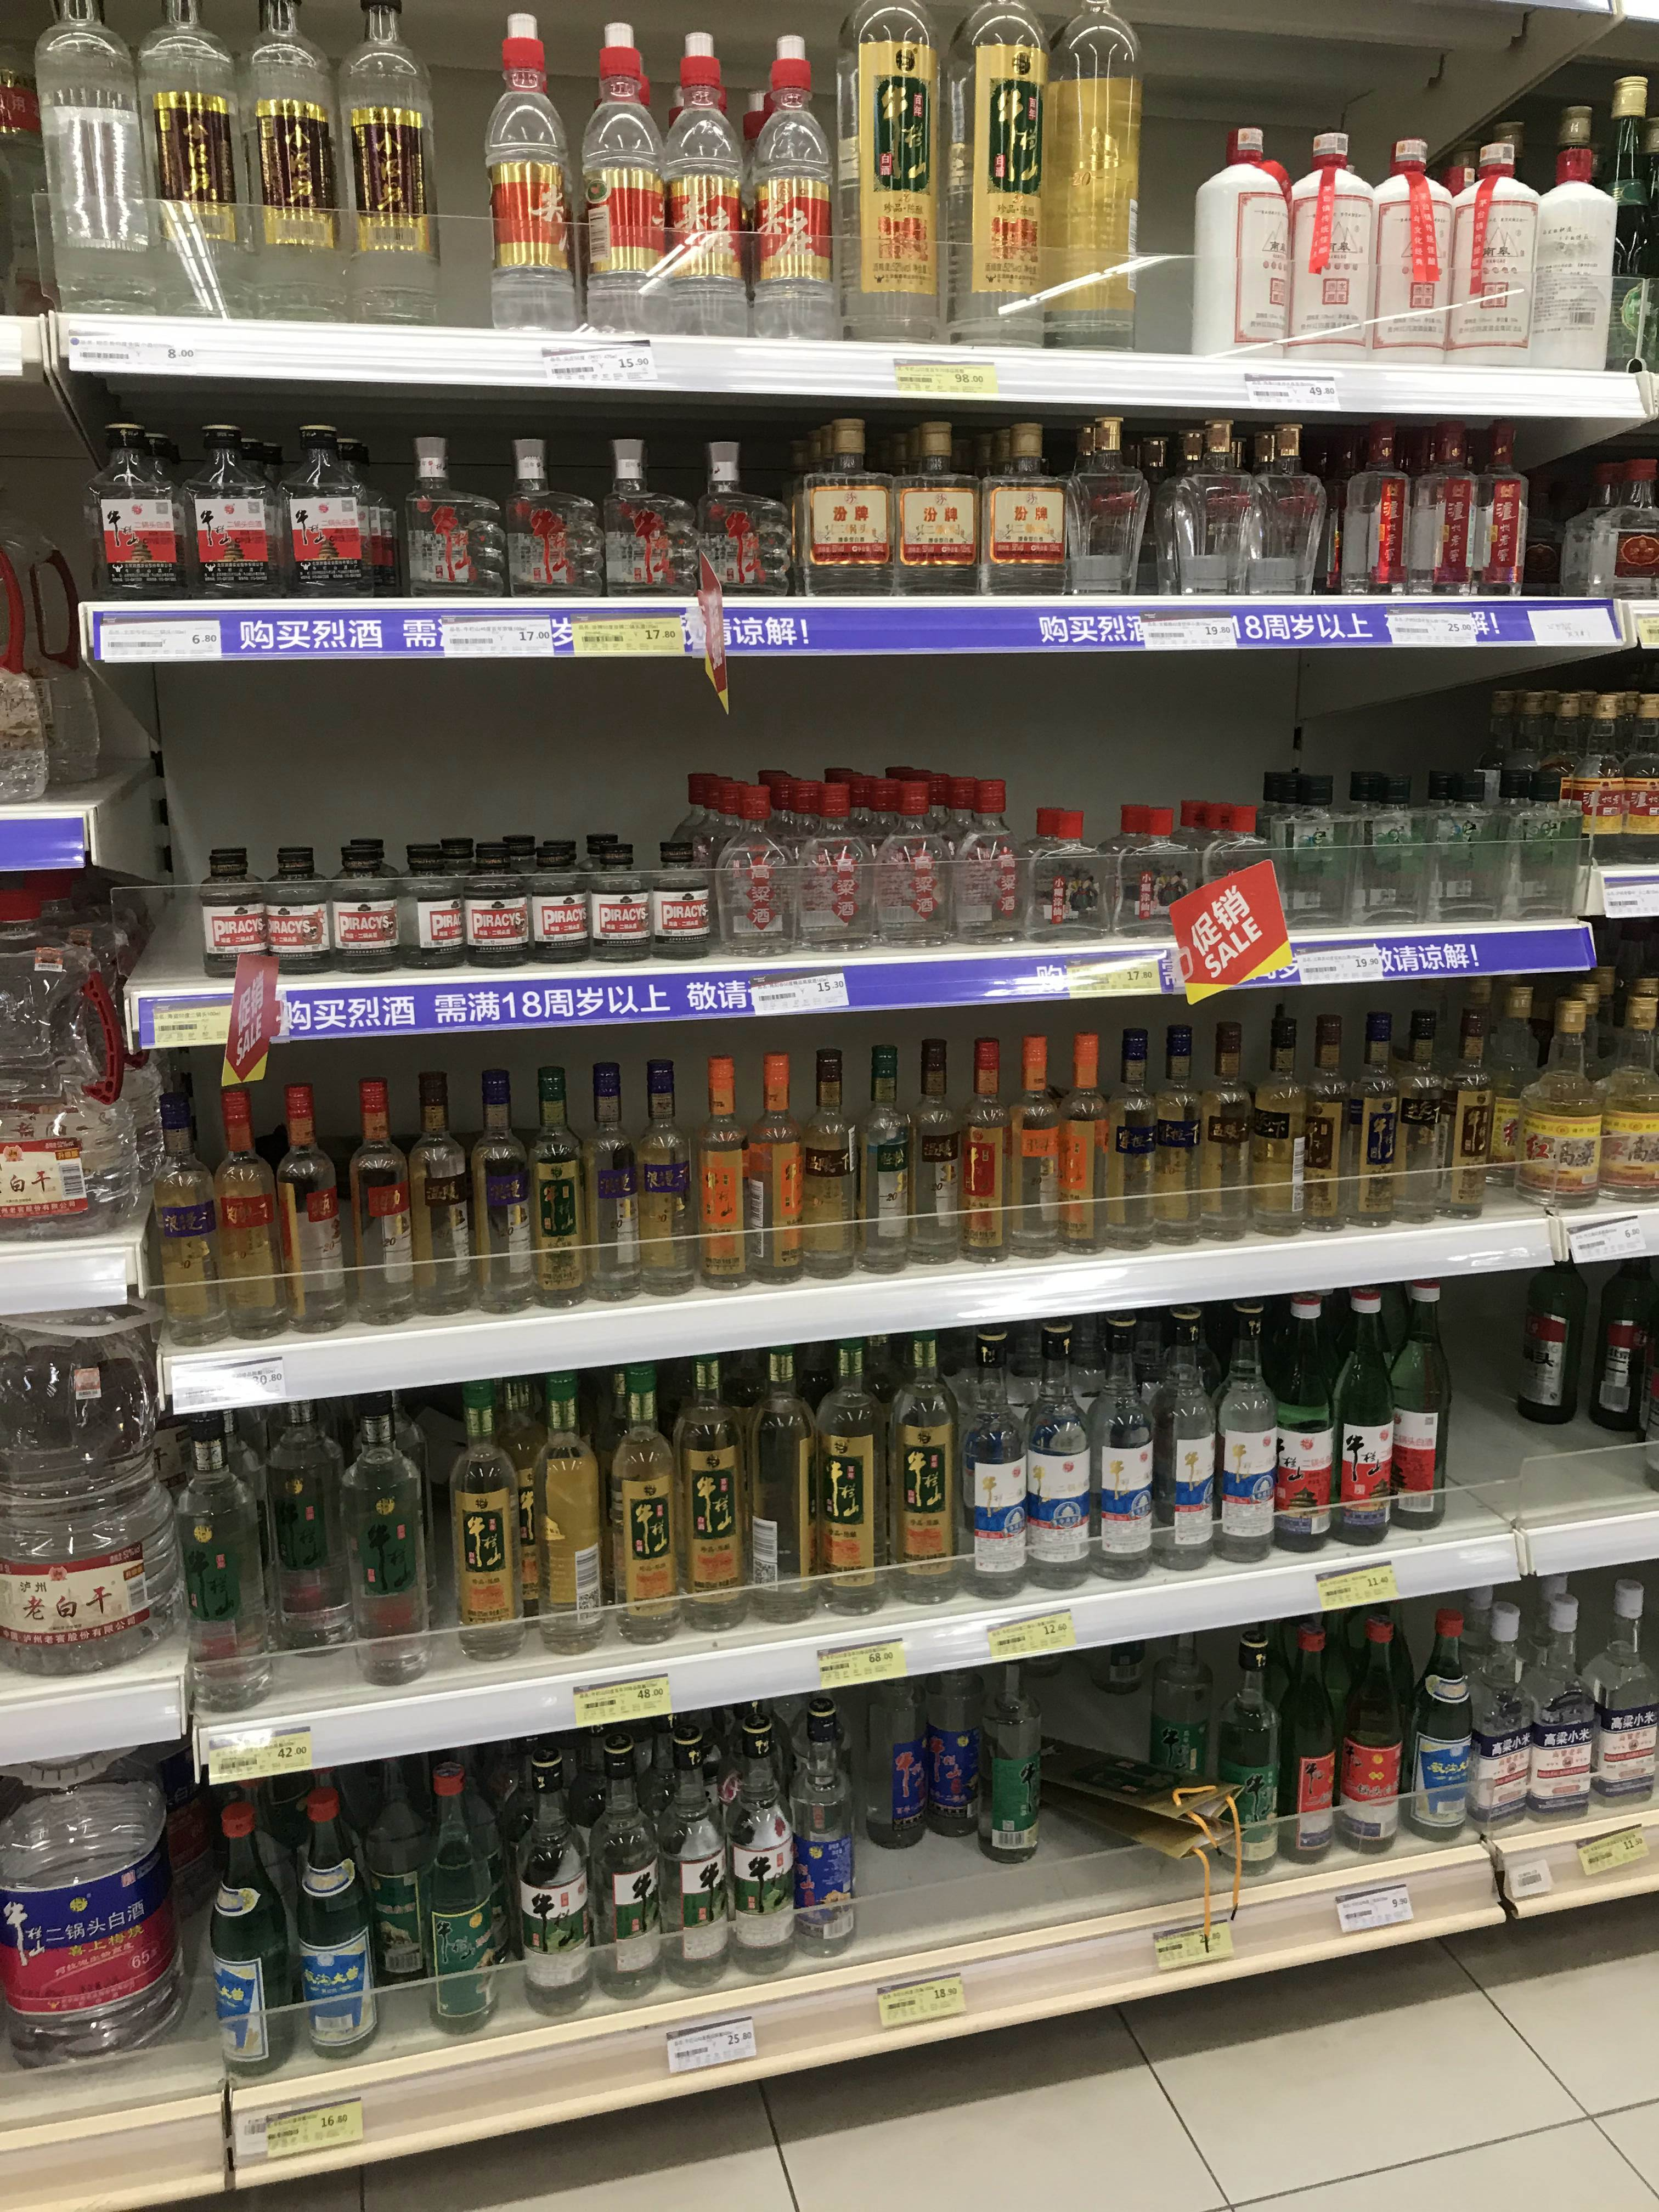bag: (1148, 1606, 1223, 1822), (1349, 784, 1403, 918)
bottle: (0, 1308, 174, 1683), (103, 1360, 237, 1676), (1026, 2, 1141, 355), (30, 3, 160, 312), (932, 0, 1040, 354), (26, 902, 139, 1228), (838, 2, 941, 352), (239, 2, 343, 324), (132, 3, 239, 314), (336, 2, 437, 324), (155, 1413, 267, 1696), (476, 10, 573, 333), (575, 21, 667, 336), (657, 31, 749, 340), (336, 1400, 436, 1681), (749, 37, 838, 343), (251, 1388, 350, 1662), (418, 1750, 505, 2031), (598, 1359, 683, 1644), (523, 1369, 606, 1653), (443, 1379, 526, 1663), (293, 1789, 378, 2062), (1527, 108, 1614, 371), (206, 1797, 289, 2071), (138, 1078, 225, 1339), (1581, 80, 1659, 368), (671, 1350, 749, 1632), (1194, 125, 1286, 362), (884, 1331, 962, 1606), (809, 1336, 885, 1616), (742, 1343, 819, 1620), (1201, 1615, 1279, 1883), (359, 1754, 444, 1996), (213, 1076, 293, 1334), (650, 1735, 730, 1991), (270, 1082, 350, 1334), (1018, 1320, 1093, 1590), (514, 1754, 591, 2017), (1262, 1282, 1335, 1552), (1321, 1285, 1396, 1548), (584, 1737, 657, 2001), (957, 1325, 1026, 1597), (82, 423, 186, 603), (718, 1719, 791, 1975), (1457, 125, 1535, 364), (340, 1083, 416, 1325), (1288, 132, 1368, 362), (181, 421, 282, 603), (1209, 1299, 1277, 1562), (1086, 1324, 1155, 1580), (967, 1651, 1051, 1864), (465, 1078, 540, 1315), (1460, 1594, 1535, 1831), (1579, 1583, 1657, 1808), (784, 1705, 854, 1958), (1572, 1224, 1657, 1430), (1514, 1214, 1596, 1428), (1331, 1609, 1403, 1853), (1269, 1611, 1338, 1860), (518, 1066, 589, 1308), (401, 1085, 474, 1320), (1518, 1000, 1600, 1209), (277, 423, 373, 601), (1145, 423, 1243, 597), (1380, 1278, 1450, 1522), (1152, 1313, 1218, 1569), (579, 1062, 647, 1301), (803, 421, 894, 597), (401, 435, 500, 596), (1486, 986, 1563, 1191), (1521, 1597, 1593, 1817), (1588, 982, 1659, 1200), (631, 1059, 695, 1296), (922, 1642, 997, 1846), (1406, 1616, 1474, 1841), (1246, 1000, 1310, 1235), (1377, 141, 1445, 364), (504, 439, 598, 599), (1060, 418, 1145, 594), (978, 423, 1063, 597), (849, 1043, 913, 1273), (599, 439, 694, 596), (741, 1054, 803, 1285), (904, 1031, 965, 1266), (1239, 423, 1323, 594), (958, 1036, 1021, 1263), (695, 1054, 755, 1289), (701, 439, 789, 596), (1004, 1033, 1065, 1259), (1053, 1029, 1114, 1256), (1190, 1021, 1251, 1240), (864, 1649, 931, 1850), (897, 425, 974, 597), (1115, 1024, 1173, 1252), (1141, 1022, 1199, 1247), (1300, 1005, 1358, 1230), (798, 1052, 854, 1280), (1499, 697, 1558, 904), (1417, 1005, 1474, 1216), (1105, 819, 1199, 946), (1530, 697, 1591, 890), (1358, 1015, 1413, 1226), (1406, 420, 1471, 599), (1450, 425, 1514, 599), (1023, 817, 1110, 942), (802, 777, 866, 942), (1192, 806, 1265, 951), (1342, 418, 1399, 599), (1574, 693, 1629, 867), (863, 775, 920, 941), (882, 775, 939, 939), (953, 786, 1012, 939), (518, 841, 589, 967), (936, 777, 988, 939), (577, 850, 652, 961), (462, 859, 537, 967), (328, 860, 401, 970), (1615, 695, 1657, 860)
bucket: (2, 1756, 174, 2067)
jar: (660, 787, 739, 951), (741, 773, 812, 944), (1579, 456, 1657, 599), (643, 836, 723, 956), (193, 855, 267, 968), (261, 859, 331, 968), (396, 867, 465, 967)
others: (0, 639, 157, 805)
